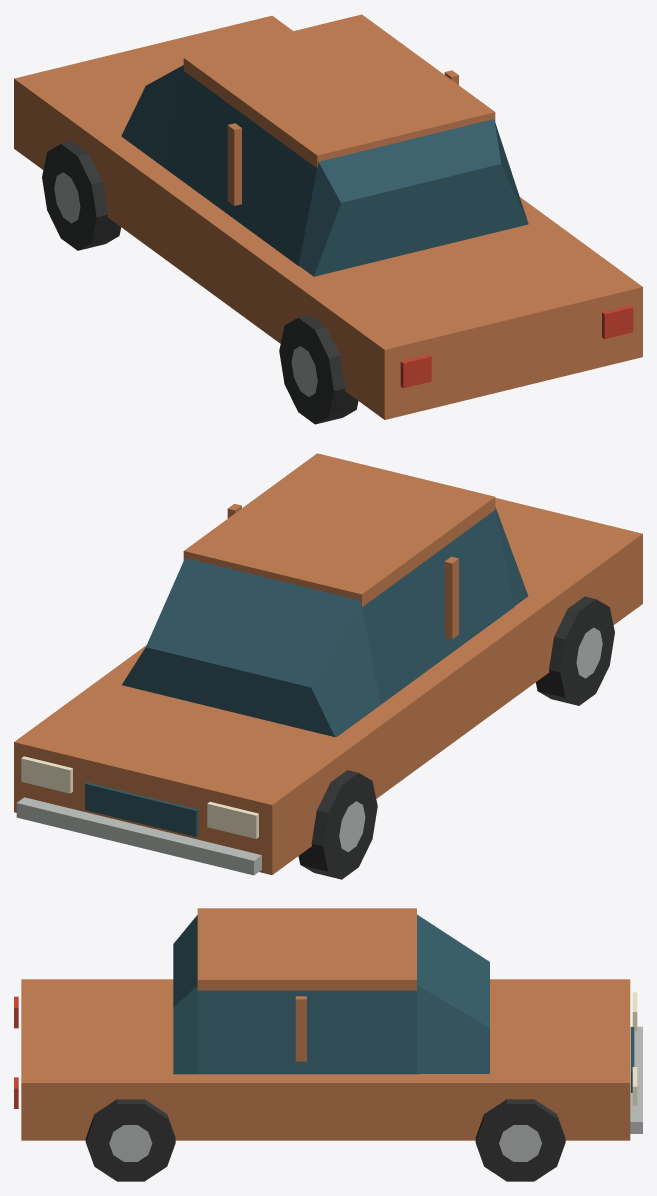
The model's file is car.glb.
3 renders of one model, top to bottom at view 1: azimuth 30°, elevation 25°; view 2: azimuth 150°, elevation 25°; view 3: azimuth 270°, elevation 25°, orthographic. The views are drawn at different scales.
Parts seen in each view (by area): view 1: CarModel traffic_copper, CarModel traffic_glass, CarModel traffic_rubber, CarModel traffic_metal, CarModel traffic_red; view 2: CarModel traffic_copper, CarModel traffic_glass, CarModel traffic_rubber, CarModel traffic_metal, CarModel traffic_light; view 3: CarModel traffic_copper, CarModel traffic_glass, CarModel traffic_rubber, CarModel traffic_metal, CarModel traffic_light.
Boxes of the visible parts, x1,y1,x2,y2 form: CarModel traffic_copper: (14,14,642,419); CarModel traffic_glass: (121,65,528,276); CarModel traffic_rubber: (42,141,358,424); CarModel traffic_metal: (54,172,317,396); CarModel traffic_red: (400,305,633,388); CarModel traffic_copper: (14,453,642,874); CarModel traffic_glass: (85,507,528,836); CarModel traffic_rubber: (298,596,614,879); CarModel traffic_metal: (16,627,602,875); CarModel traffic_light: (21,756,258,838); CarModel traffic_copper: (21,908,630,1140); CarModel traffic_glass: (173,914,634,1092); CarModel traffic_rubber: (85,1099,565,1181); CarModel traffic_metal: (109,1026,642,1161); CarModel traffic_light: (632,992,637,1105).
Size of the model in its own units: 2.04 by 1.51 by 4.75.
